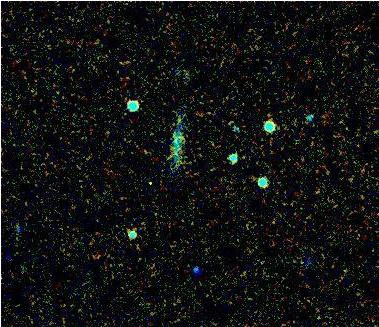star: (138, 165, 168, 195)
